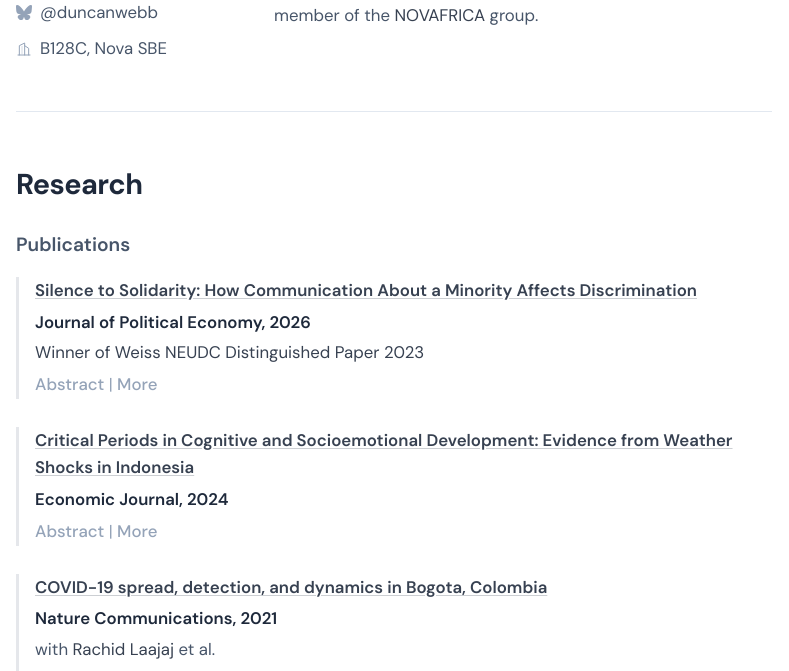
Scenario: Paper expandable links › closes Abstract when More is opened on the same paper
(page scrolled)
Click the button "Abstract" below "Journal of Political Economy, 2026" at (70, 384), box [35,374,104,396]
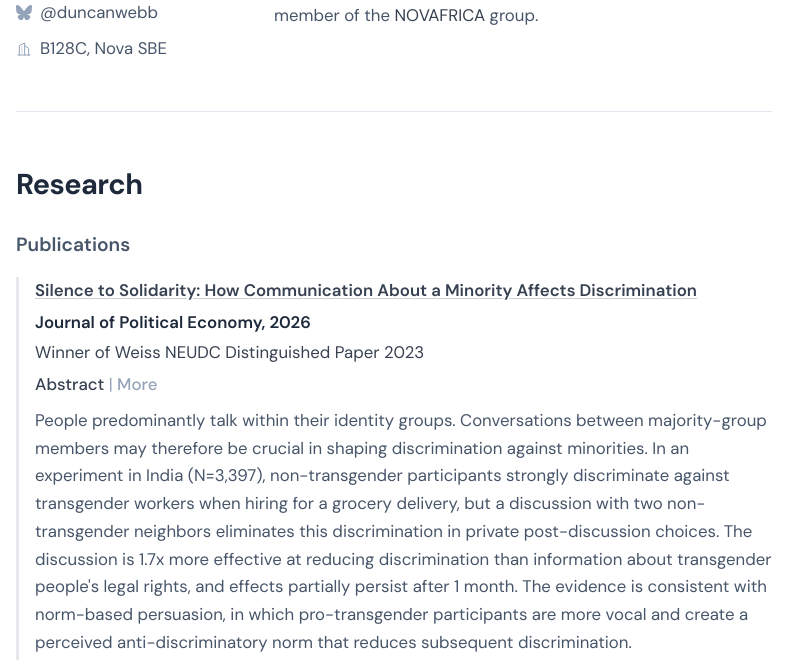
Check: the button "Abstract" is expanded, box [35,374,104,396]
Click the button "More" at (137, 384), box [117,374,157,396]
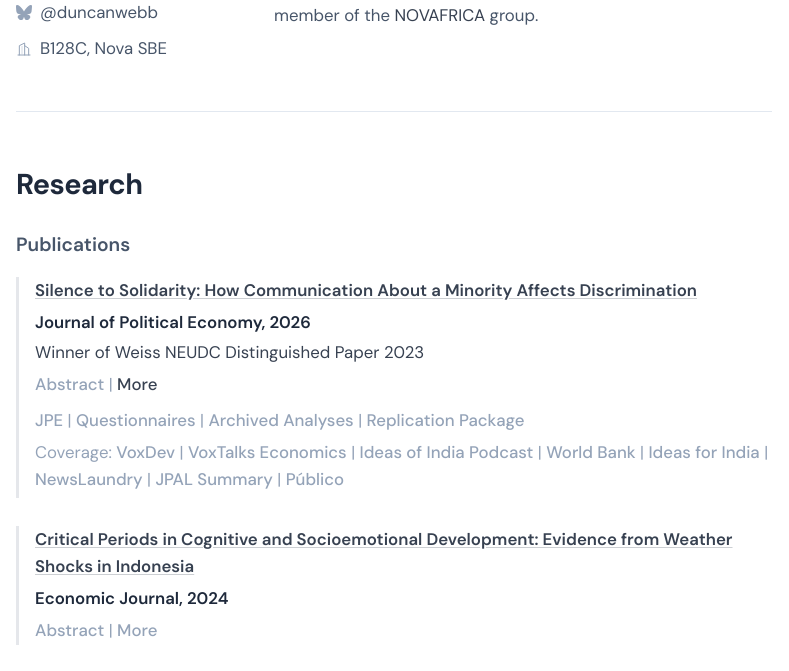
Check: the button "More" below "Journal of Political Economy, 2026" is expanded, box [117,374,157,396]
Check: the button "Abstract" below "Journal of Political Economy, 2026" is collapsed, box [35,374,104,396]
